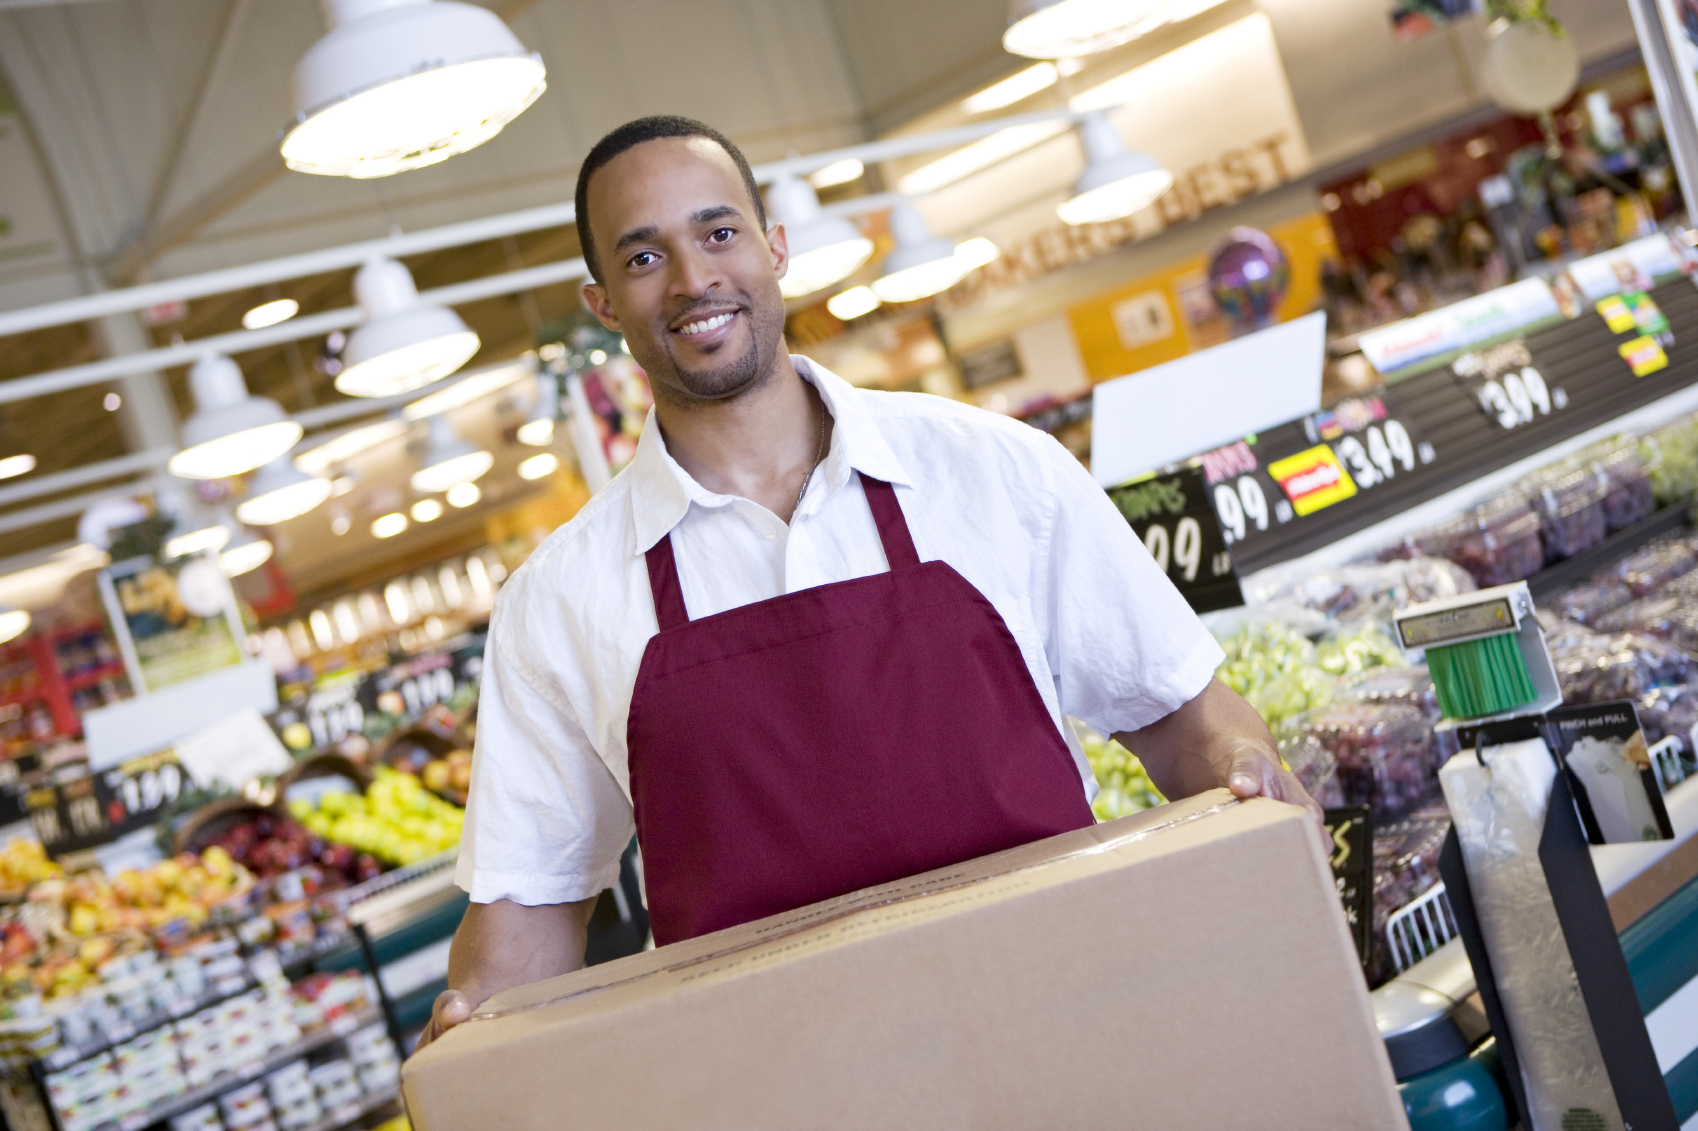Age_30_40: (573, 119, 797, 398)
E_Black: (573, 119, 797, 398)
Emotion_Happy: (573, 119, 797, 398)
G_Male: (573, 119, 797, 398)
